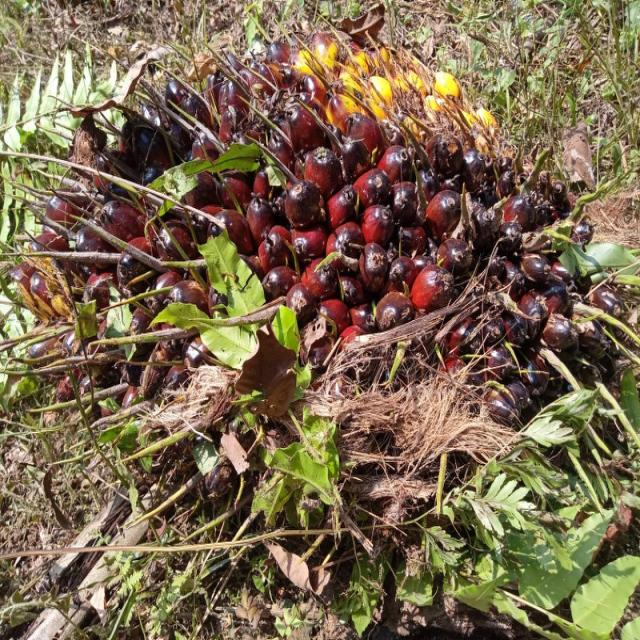fraksi 1: (15, 0, 635, 570)
